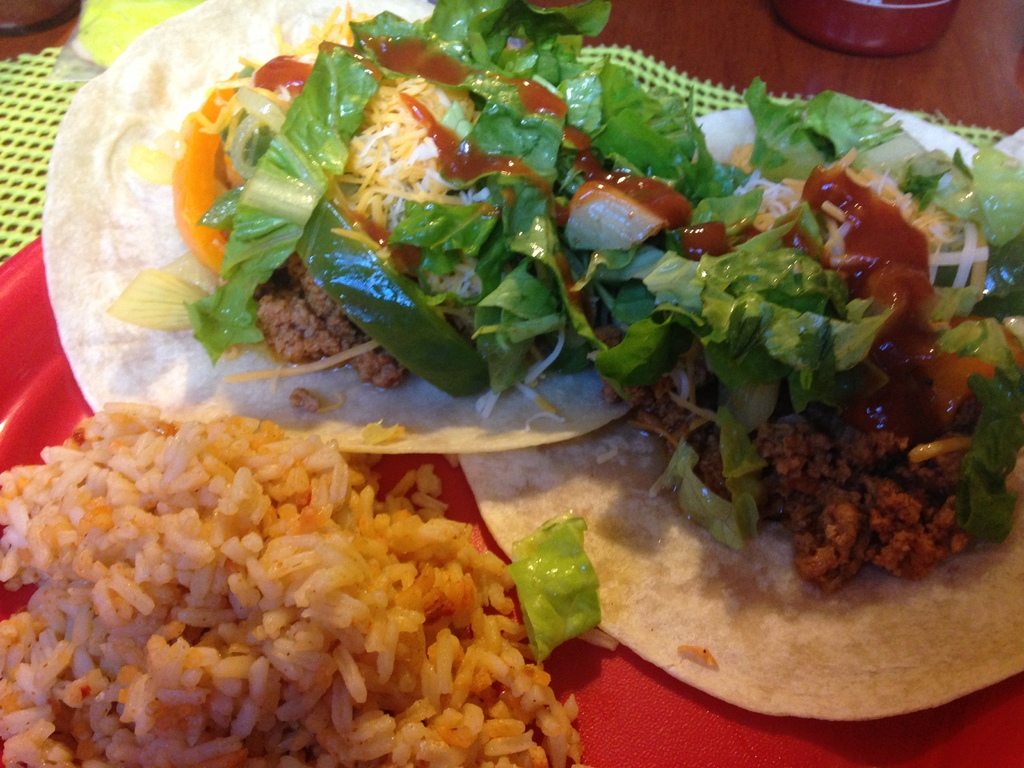taco: (461, 97, 1021, 725), (41, 0, 688, 455)
